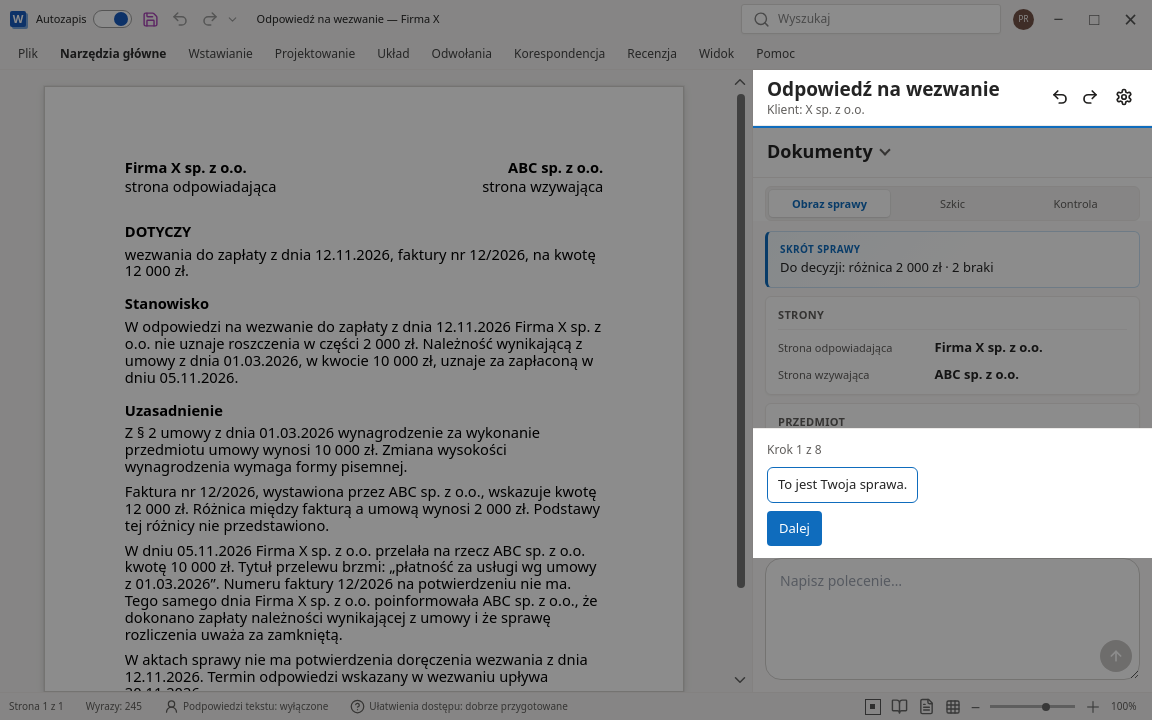
Test case: prezentacja › krok 3 podświetla różnicę oraz fakturę i umowę
The image size is (1152, 720).
Step 1. Click the button "Dalej" → (794, 529), box [767,511,822,546]
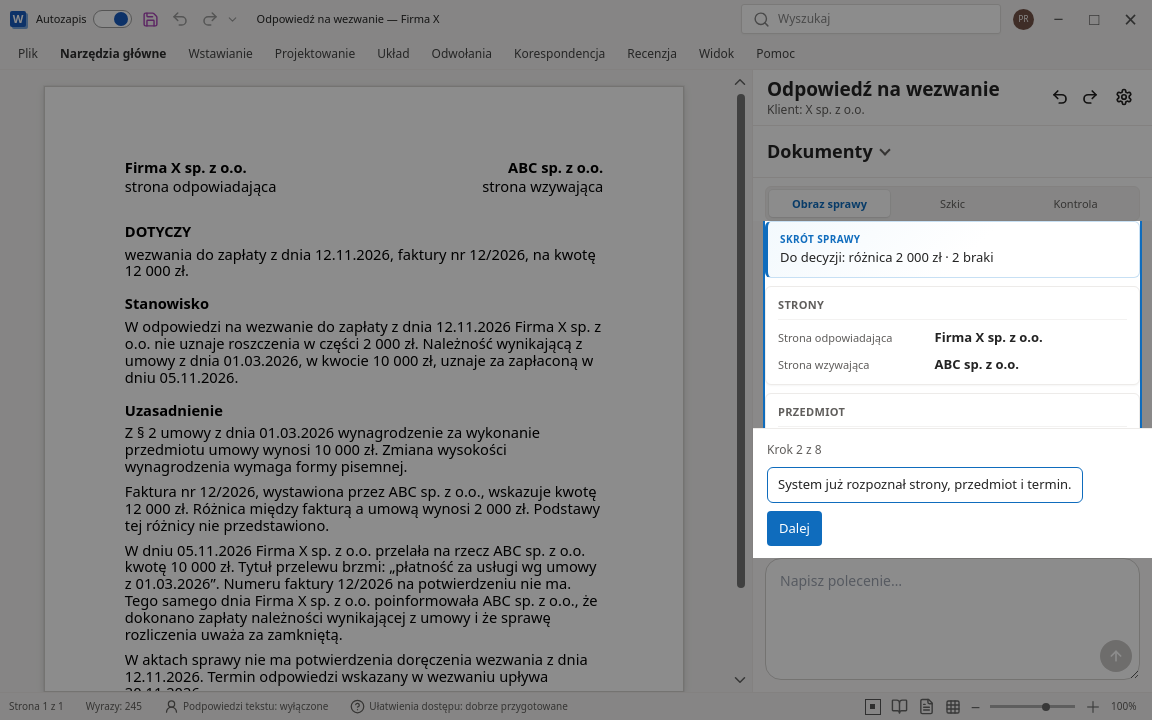
Step 2. Click the button "Dalej" → (794, 529), box [767,511,822,546]
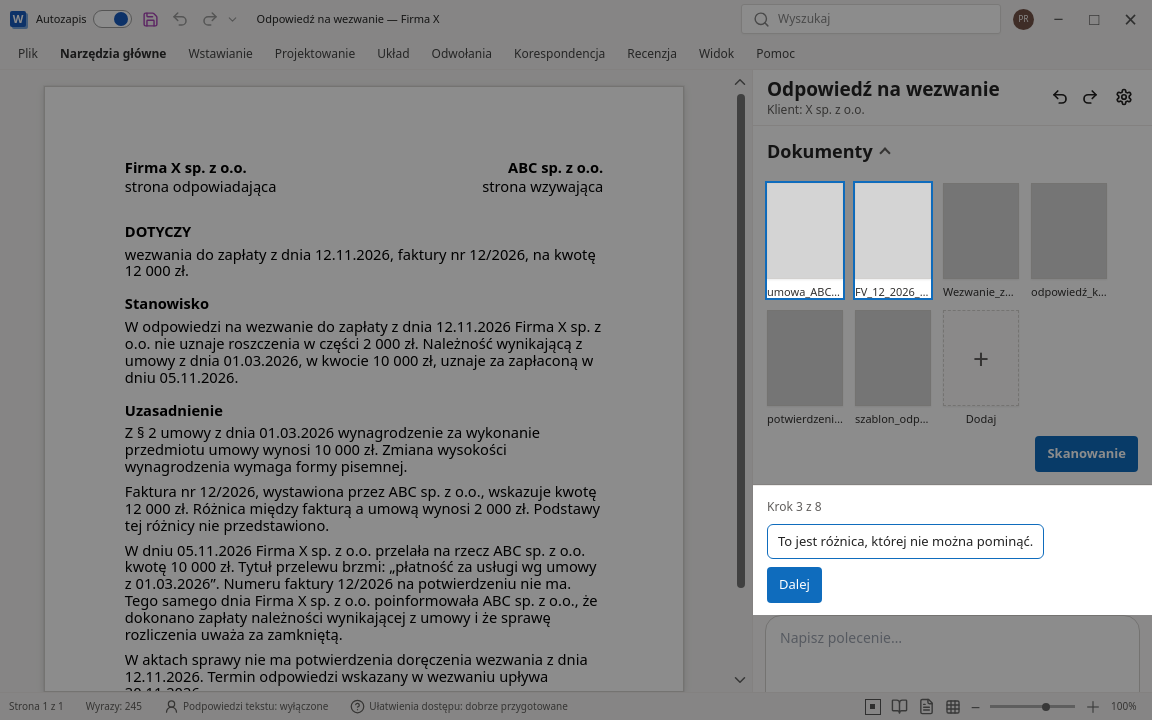
Expected: the text "To jest różnica, której nie można pominąć." is shown, [767,524,1044,559]
